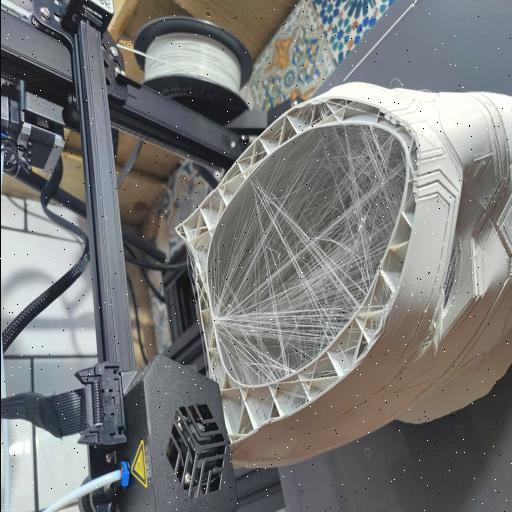stringing: (206, 135, 391, 389)
